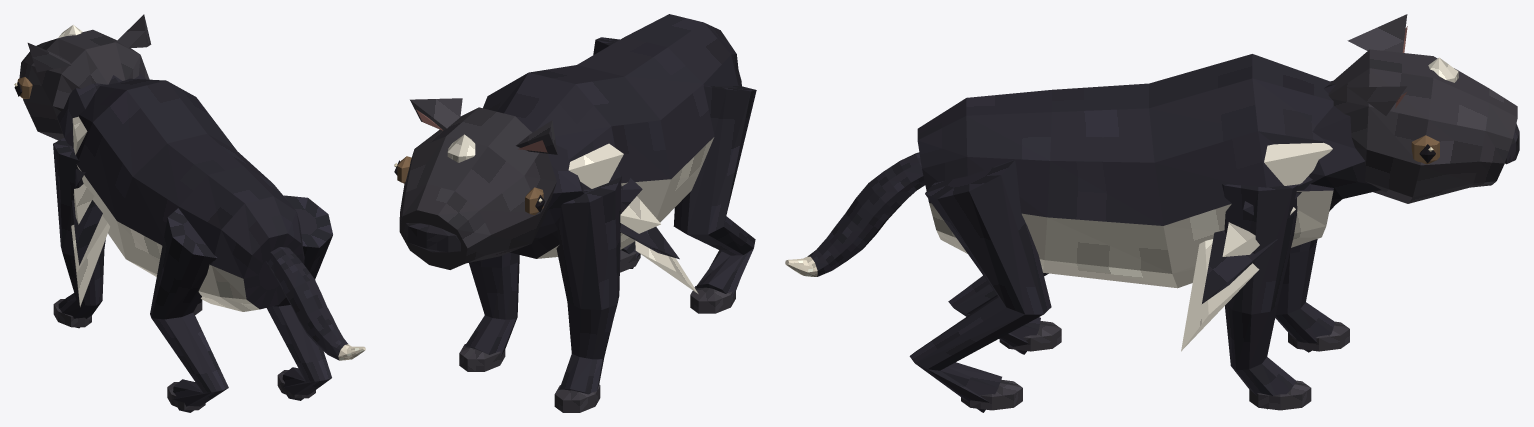
File: mon_dog_bcollie_pup.glb
The picture shows the model from 3 angles, left to right: view 1: azimuth 30°, elevation 25°; view 2: azimuth 150°, elevation 25°; view 3: azimuth 270°, elevation 25°; orthographic projection. The views are drawn at different scales.
Visible parts, largest first — view 1: closed_body; view 2: closed_body; view 3: closed_body.
Part boxes in pixels (x1=…): closed_body: x1=14, y1=14, x2=365, y2=412; closed_body: x1=394, y1=14, x2=756, y2=412; closed_body: x1=785, y1=14, x2=1519, y2=412.
Size of the model in its own units: 0.1385 by 0.1827 by 0.3657.
1 material, 1 textured.
